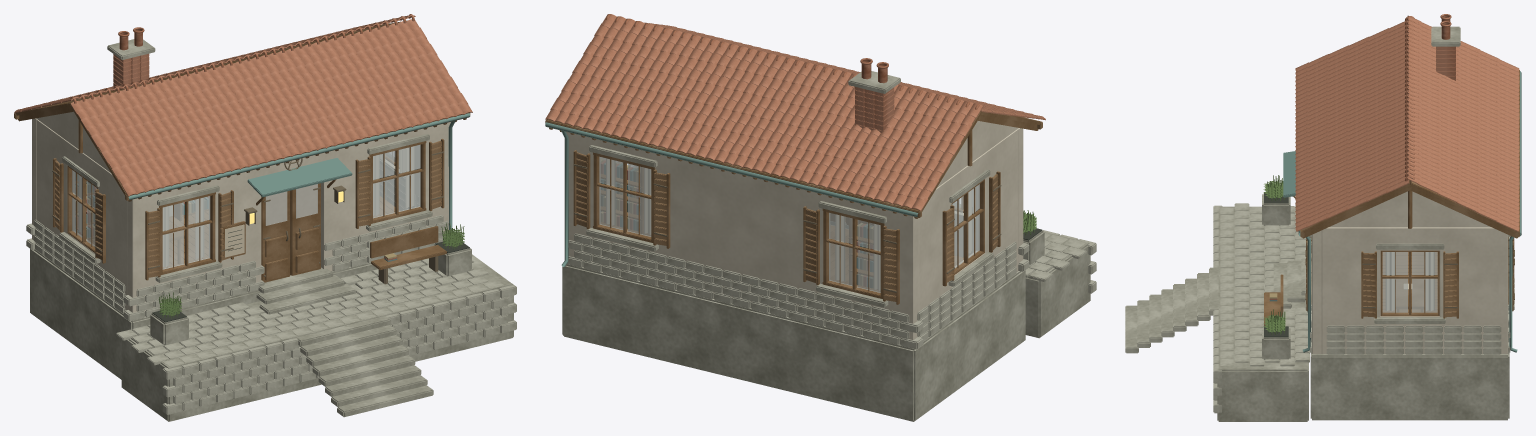
File: academy-atelier.glb
The picture shows the model from 3 angles, left to right: view 1: azimuth 30°, elevation 25°; view 2: azimuth 150°, elevation 25°; view 3: azimuth 270°, elevation 25°; orthographic projection. The views are drawn at different scales.
Visible parts, largest first — view 1: Limestone batch, Clay batch, Oak batch, Limewash batch, Window glass batch, Oxidised copper batch, Paper batch, Aged bronze batch, Herbs batch, Deep joints batch; view 2: Limestone batch, Clay batch, Limewash batch, Oak batch, Window glass batch, Oxidised copper batch, Paper batch; view 3: Limestone batch, Clay batch, Limewash batch, Oak batch, Window glass batch, Oxidised copper batch, Paper batch, Herbs batch, Deep joints batch.
Boxes of the visible parts, <box> form: Limestone batch: <box>26,39,516,421</box>; Clay batch: <box>14,14,472,196</box>; Oak batch: <box>14,20,470,282</box>; Limewash batch: <box>32,111,452,316</box>; Window glass batch: <box>72,144,420,269</box>; Oxidised copper batch: <box>128,113,470,229</box>; Paper batch: <box>78,146,414,266</box>; Aged bronze batch: <box>52,151,443,284</box>; Herbs batch: <box>158,223,464,318</box>; Deep joints batch: <box>152,229,469,322</box>; Limestone batch: <box>562,71,1096,421</box>; Clay batch: <box>545,14,1045,210</box>; Limewash batch: <box>564,121,1023,344</box>; Oak batch: <box>545,111,1042,304</box>; Window glass batch: <box>599,156,979,292</box>; Oxidised copper batch: <box>545,122,918,266</box>; Paper batch: <box>606,158,975,290</box>; Limestone batch: <box>1125,26,1514,421</box>; Clay batch: <box>1295,14,1519,231</box>; Limewash batch: <box>1312,191,1507,353</box>; Oak batch: <box>1264,70,1519,325</box>; Window glass batch: <box>1382,252,1437,312</box>; Oxidised copper batch: <box>1283,71,1521,352</box>; Paper batch: <box>1385,252,1434,310</box>; Herbs batch: <box>1263,175,1285,334</box>; Deep joints batch: <box>1264,192,1288,337</box>.
Size of the model in its own units: 9.9 by 7.79 by 9.95.
15 materials, 4 textured.
